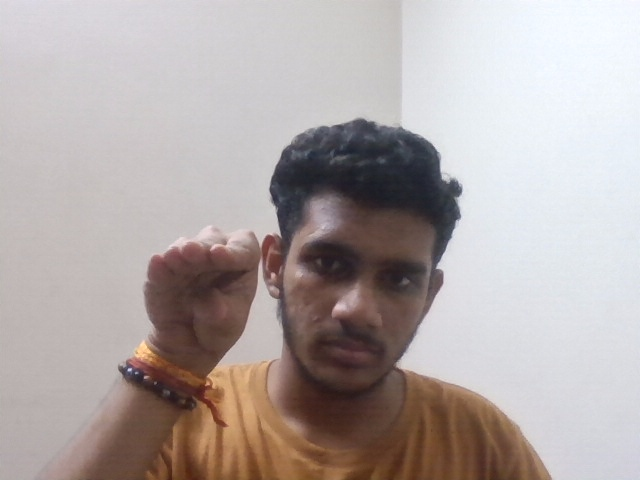no: (126, 220, 289, 349)
